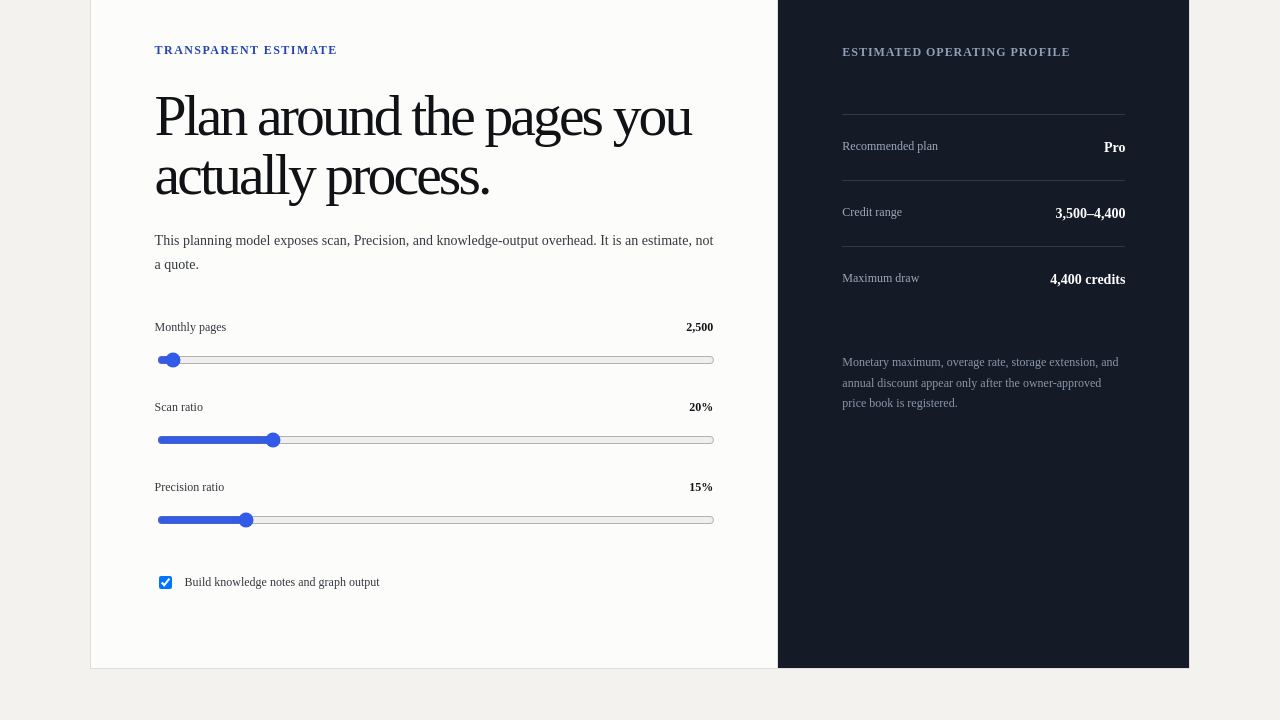
Test: TavonelPricingPlanner › updates the bounded credit estimate from page volume
(page scrolled)
Set the slider labelled "Monthly pages 2,500" to "50000" at (345, 360), box [157,352,715,368]
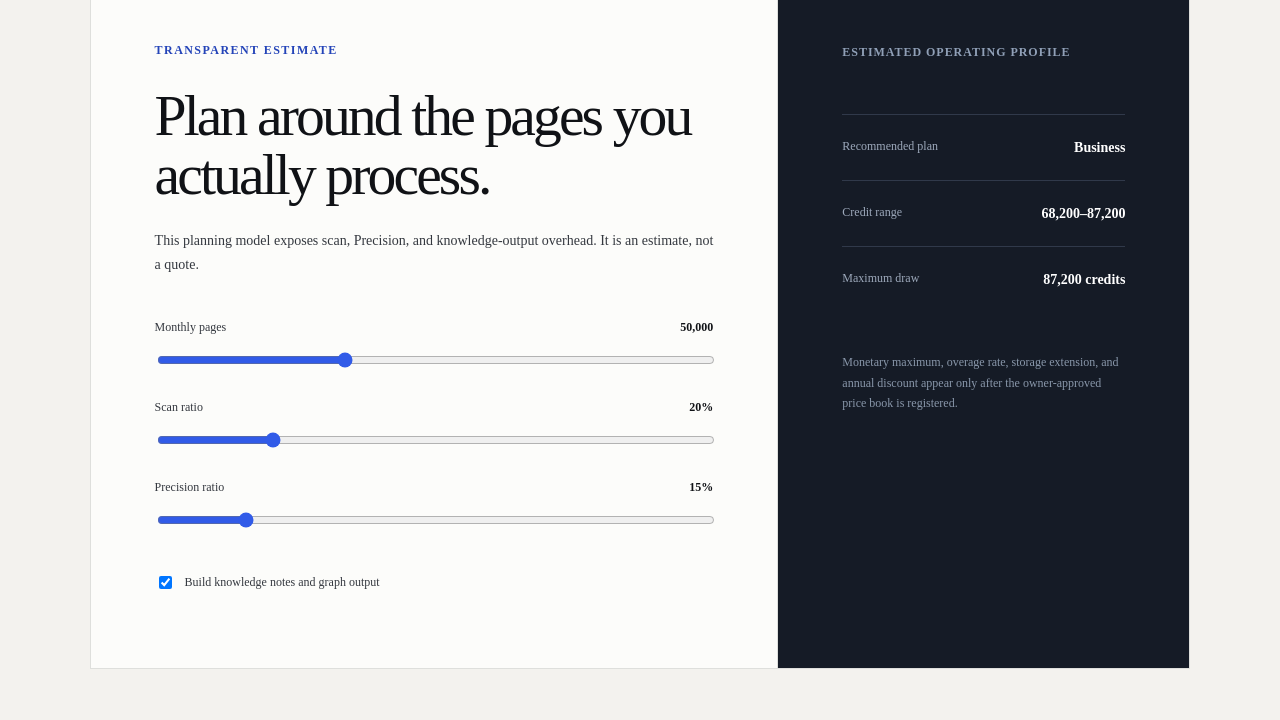
Check: the text "50,000" is shown, box [680,318,713,336]
Check: the text "Business" is shown, box [1074,137,1125,158]
Check: the text "68,200–87,200" is shown, box [1041,203,1125,224]
